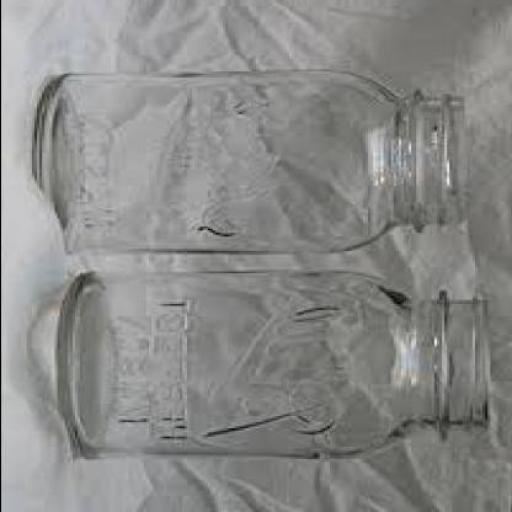glass: (59, 273, 494, 463), (36, 73, 471, 253)
